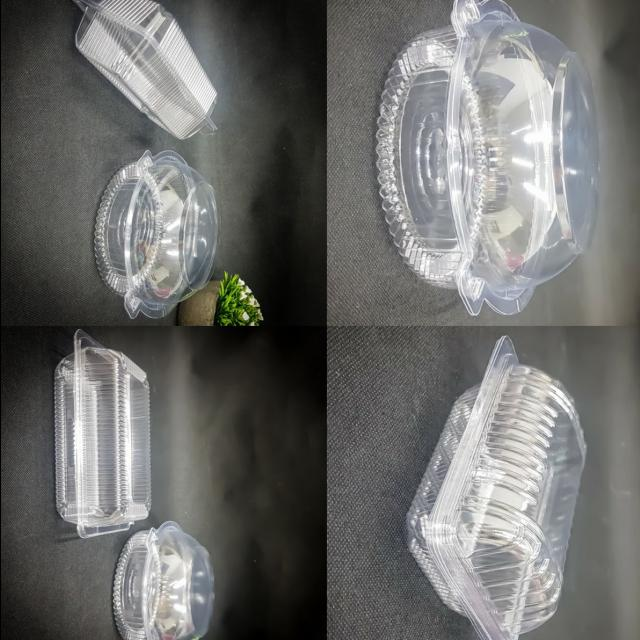plastik: (376, 0, 597, 315), (406, 337, 585, 640), (94, 151, 217, 318), (53, 330, 150, 538), (72, 0, 216, 139), (112, 522, 213, 640)
